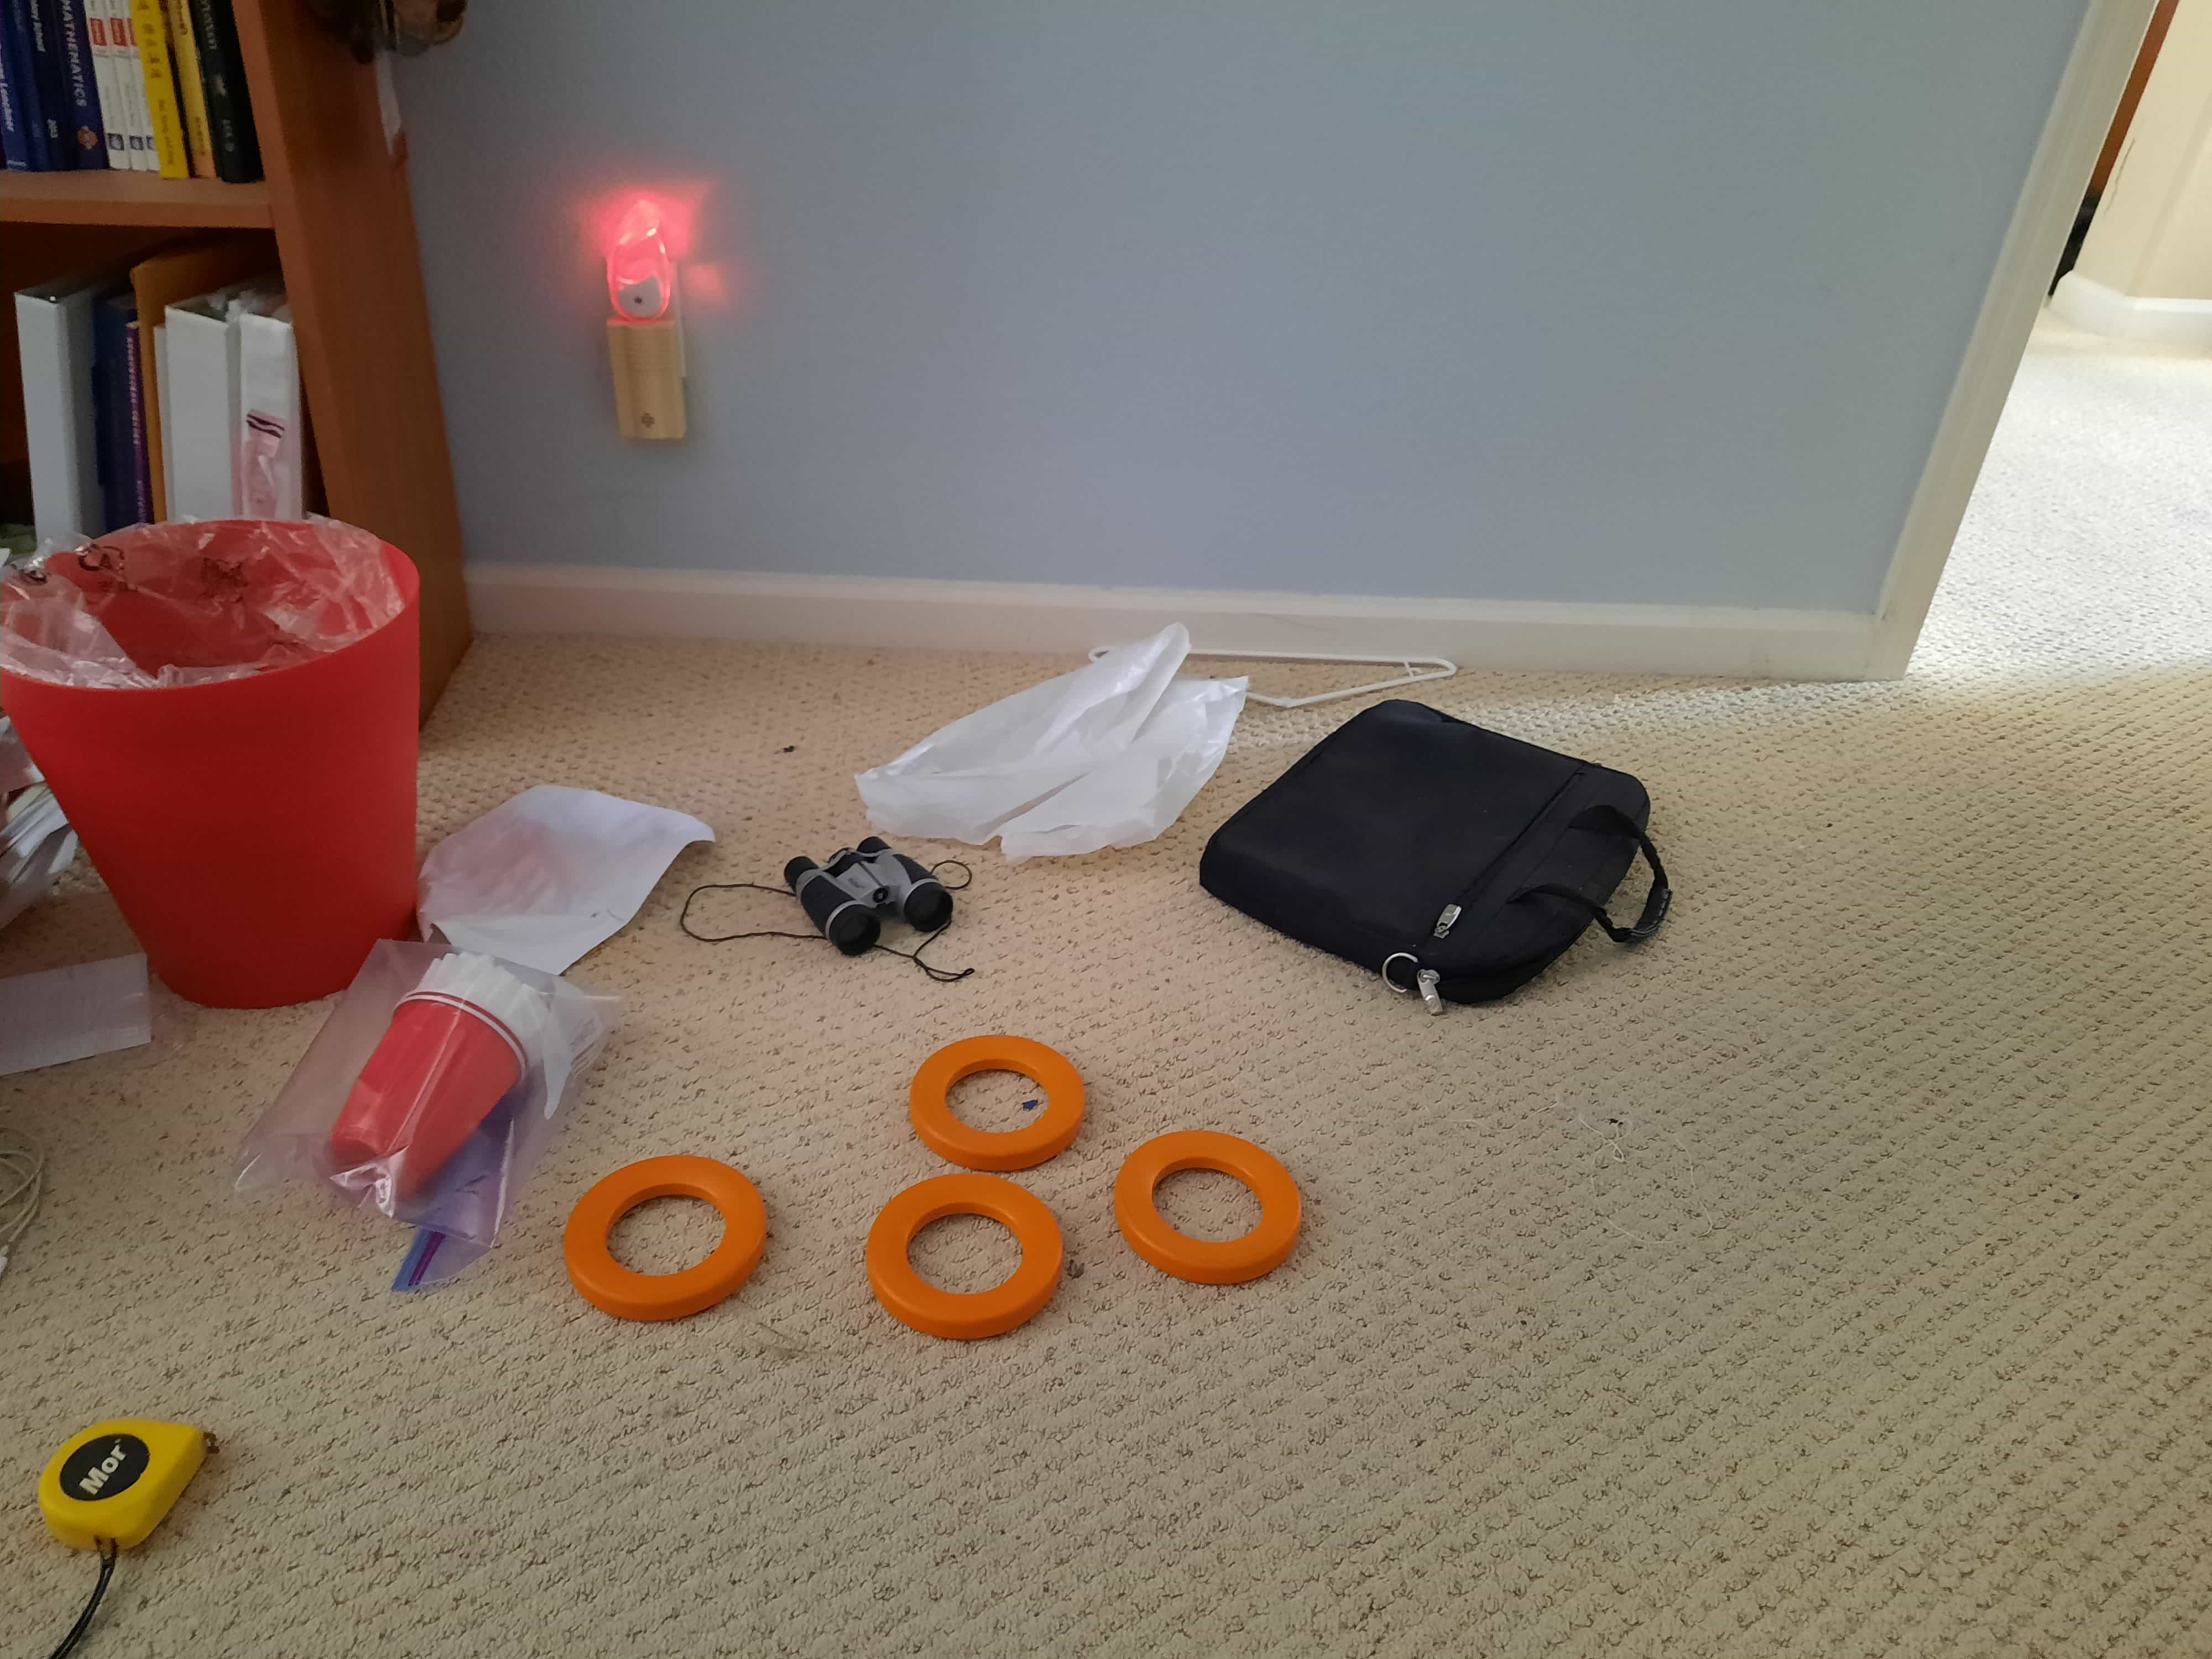OneStack: (564, 1159, 768, 1310), (1111, 1131, 1308, 1281), (866, 1183, 1061, 1323), (899, 1037, 1087, 1162)
